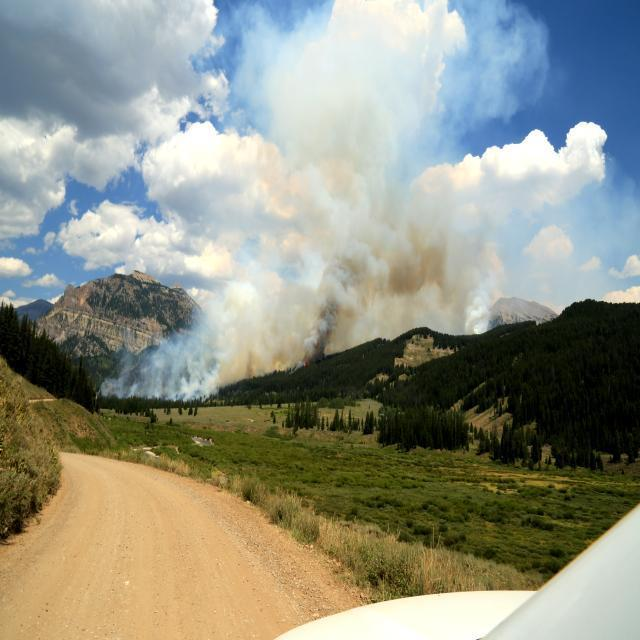Smoke: (100, 186, 478, 390)
